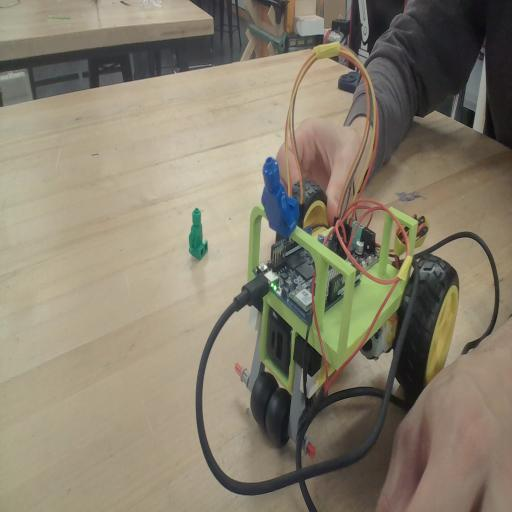blue LEGO minifig: (260, 155, 302, 242)
green LEGO minifig: (186, 205, 209, 261)
